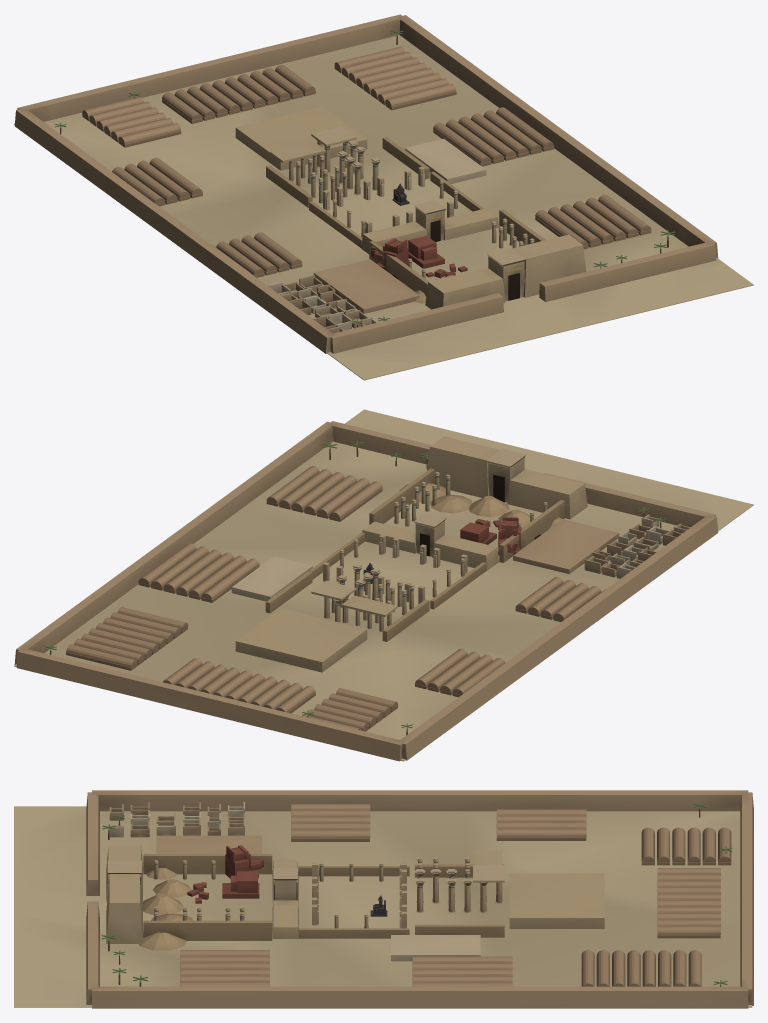
File: ramesseum-ruin.glb
The picture shows the model from 3 angles, top to bottom: view 1: azimuth 30°, elevation 25°; view 2: azimuth 150°, elevation 25°; view 3: azimuth 270°, elevation 25°; orthographic projection. The views are drawn at different scales.
Parts seen in each view (by area): view 1: p0_magazines, p1_temple, p2_hypostyle, p3_trees; view 2: p0_magazines, p1_temple, p2_hypostyle, p3_trees; view 3: p0_magazines, p1_temple, p2_hypostyle, p3_trees.
Part boxes in pixels (x1,y1,x2,y2): p0_magazines: [14, 14, 753, 380]; p1_temple: [235, 106, 586, 313]; p2_hypostyle: [266, 126, 534, 279]; p3_trees: [55, 29, 675, 333]; p0_magazines: [14, 409, 753, 761]; p1_temple: [231, 436, 619, 672]; p2_hypostyle: [265, 472, 547, 641]; p3_trees: [44, 440, 690, 731]; p0_magazines: [14, 790, 753, 1008]; p1_temple: [106, 835, 604, 961]; p2_hypostyle: [154, 850, 504, 937]; p3_trees: [101, 801, 732, 986].
Bounding box in the file's own units: 181 × 17.03 × 281.
